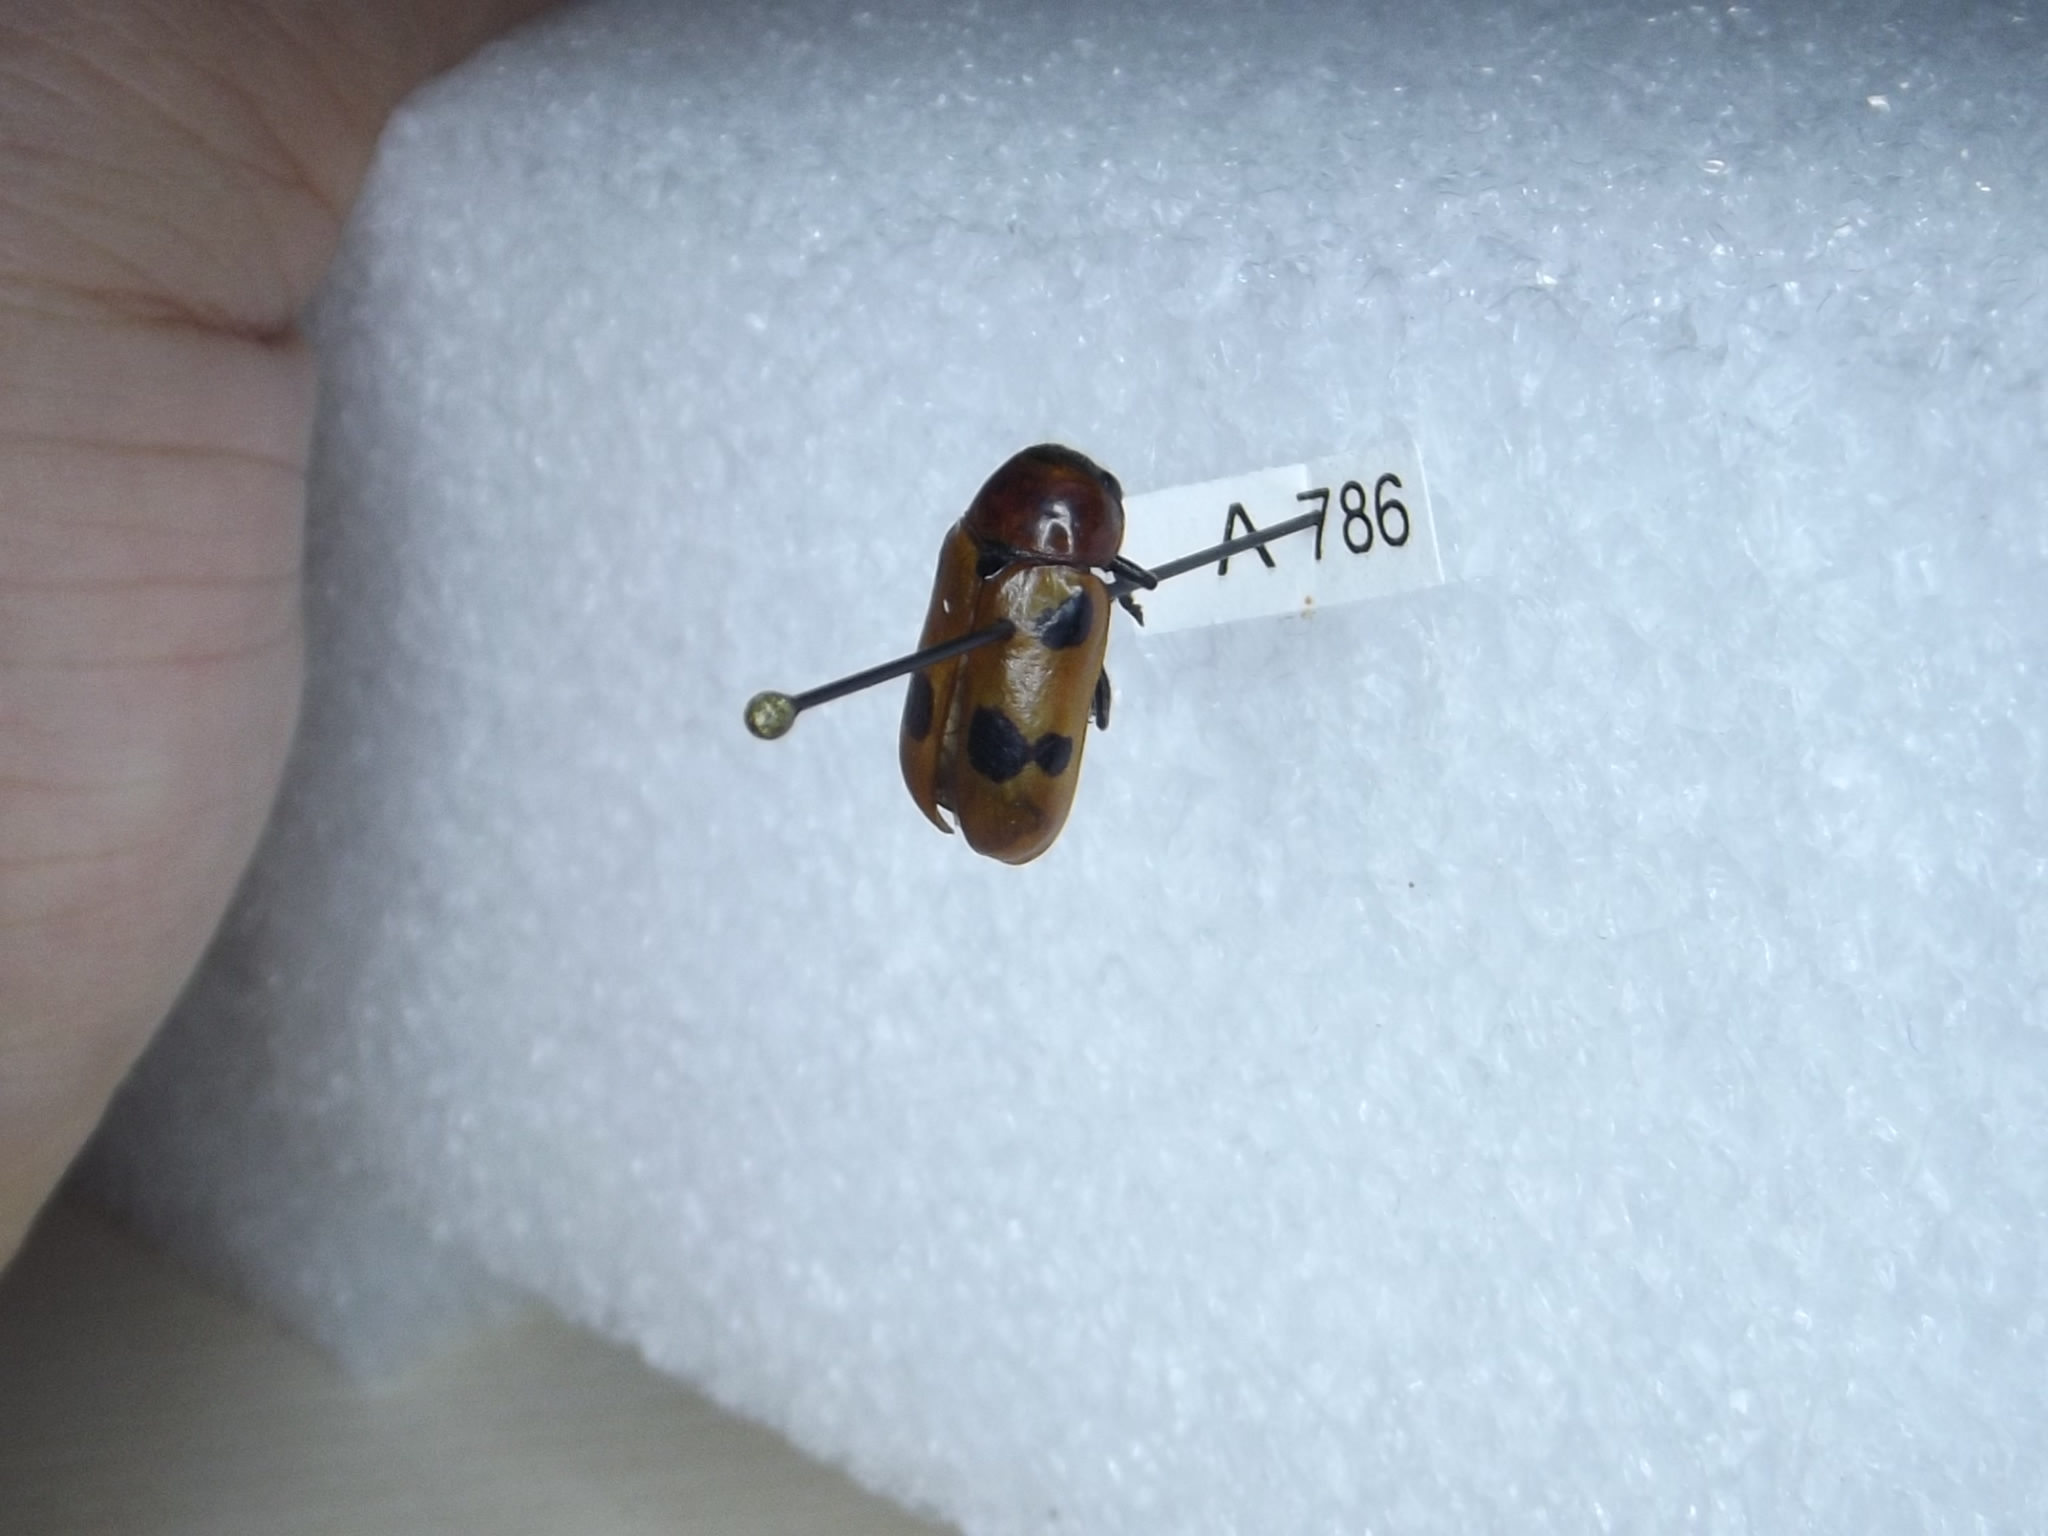Clytra_novempunctata: (889, 428, 1163, 874)
